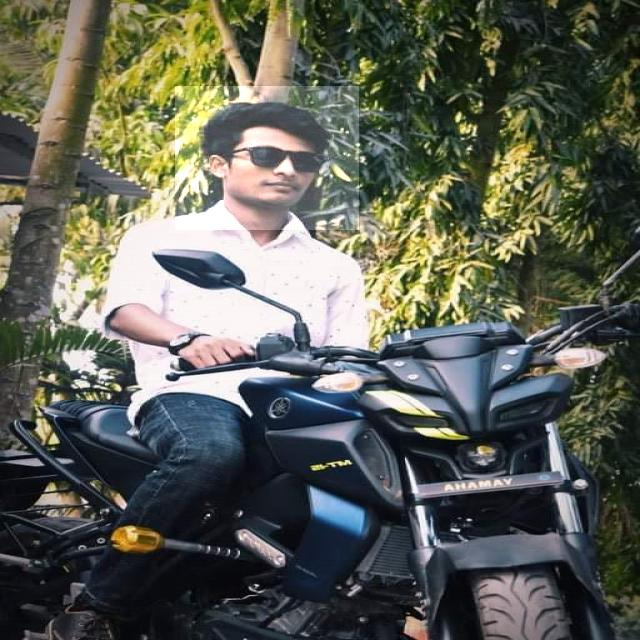No_Helmet: (176, 86, 360, 230)
